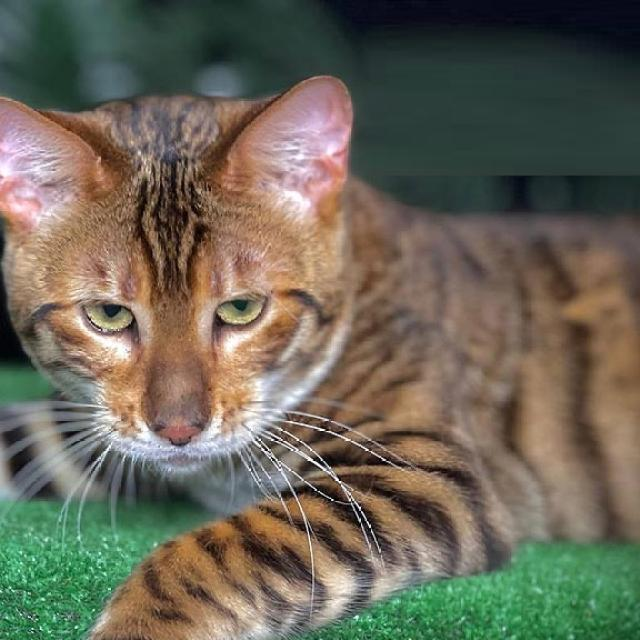Toyger: (0, 68, 640, 640)
